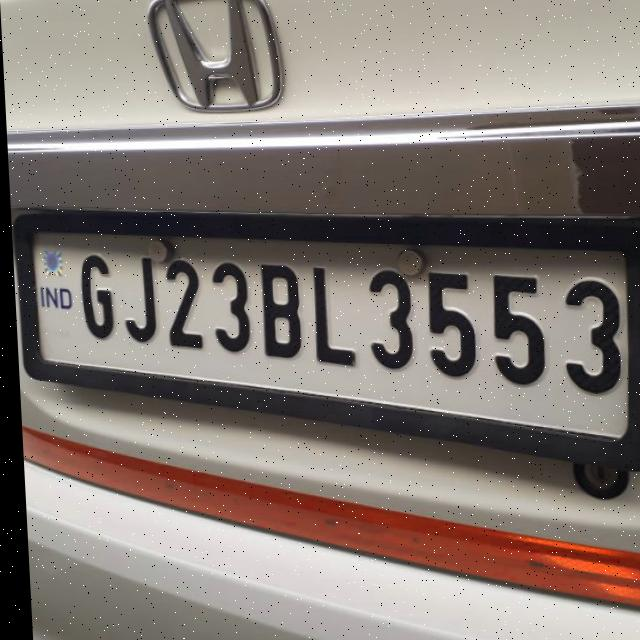plate: (9, 214, 640, 479)
